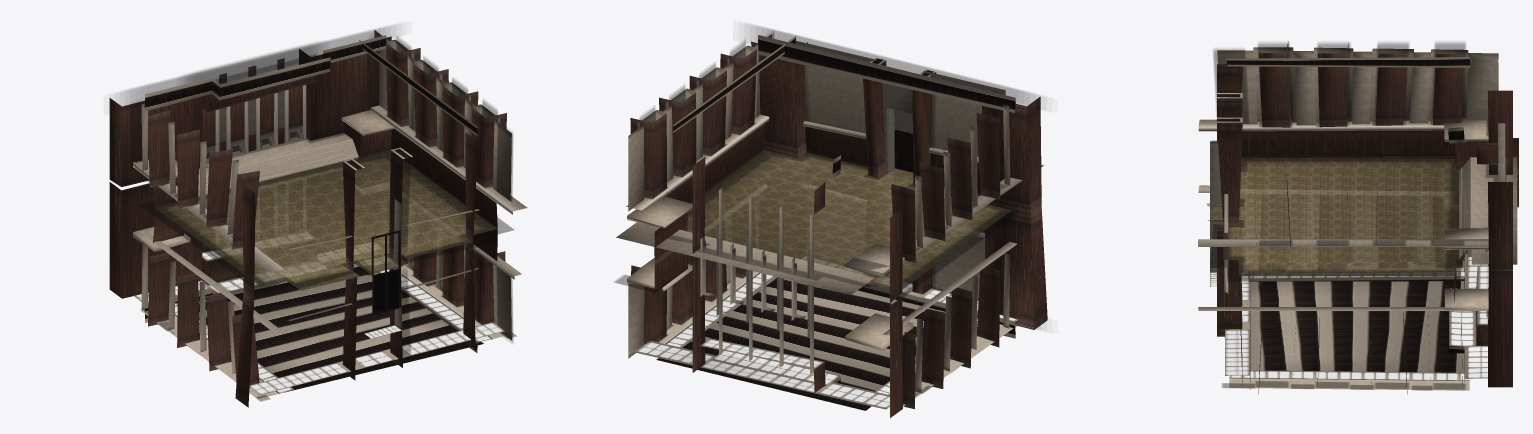
File: lawbot_da_lobby.glb
3 renders of one model, left to right at view 1: azimuth 30°, elevation 25°; view 2: azimuth 150°, elevation 25°; view 3: azimuth 270°, elevation 25°, orthographic. The views are drawn at different scales.
Visible parts, largest first — view 1: DA_LobbyFloor, DA_LobbyCeiling1, DA_Base_10 (×2), DA_Walls_21 (×4), DA_Base_18 (×2), DA_TopBorder_1 (×2), polySurface5 (×4), polySurface6 (×4), DALobbyGroundShadow, polySurface8 (×4), polySurface7 (×3), DA_TopBorder_5 (×3) (+26 smaller); view 2: DA_LobbyFloor, DA_LobbyCeiling1, DA_Walls_22 (×2), DA_Base_12 (×2), DA_Walls_21 (×4), DA_Base_11 (×2), polySurface6 (×4), polySurface8 (×4), polySurface5 (×4), polySurface7 (×4), DA_TopBorder_6 (×2), DA_Base_6 (+19 smaller); view 3: DA_LobbyFloor, DA_LobbyCeiling1, DA_Walls_21 (×2), DA_Walls_33 (×2), DA_TopBorder_5 (×3), DA_Walls_26 (×4), DALobbyGroundShadow, DA_Base_18 (×2), DA_Base_14 (×2), polySurface8 (×2), polySurface5 (×2), polySurface6 (×2) (+18 smaller).
Boxes of the visible parts, left/top/right/bottom form: DA_LobbyFloor: left=156, top=151, right=496, bottom=290; DA_LobbyCeiling1: left=199, top=262, right=483, bottom=392; DA_Base_10 (×2): left=109, top=96, right=202, bottom=298; DA_Walls_21 (×4): left=141, top=30, right=511, bottom=373; DA_Base_18 (×2): left=299, top=36, right=391, bottom=253; DA_TopBorder_1 (×2): left=134, top=35, right=386, bottom=322; polySurface5 (×4): left=206, top=86, right=478, bottom=371; polySurface6 (×4): left=177, top=63, right=448, bottom=347; DALobbyGroundShadow: left=139, top=151, right=513, bottom=290; polySurface8 (×4): left=232, top=108, right=506, bottom=384; polySurface7 (×3): left=148, top=43, right=420, bottom=326; DA_TopBorder_5 (×3): left=140, top=40, right=505, bottom=398; DA_LobbyFloor: left=687, top=150, right=1011, bottom=288; DA_LobbyCeiling1: left=656, top=278, right=945, bottom=410; DA_Walls_22 (×2): left=795, top=41, right=873, bottom=263; DA_Base_12 (×2): left=982, top=97, right=1047, bottom=329; DA_Walls_21 (×4): left=628, top=34, right=1010, bottom=392; DA_Base_11 (×2): left=751, top=41, right=807, bottom=258; polySurface6 (×4): left=659, top=92, right=945, bottom=388; polySurface8 (×4): left=720, top=49, right=1000, bottom=347; polySurface5 (×4): left=689, top=70, right=972, bottom=368; polySurface7 (×4): left=630, top=113, right=915, bottom=408; DA_TopBorder_6 (×2): left=758, top=35, right=1015, bottom=338; DA_Base_6: left=616, top=222, right=873, bottom=294; DA_LobbyFloor: left=1210, top=158, right=1460, bottom=275; DA_LobbyCeiling1: left=1250, top=281, right=1464, bottom=372; DA_Walls_21 (×2): left=1217, top=47, right=1498, bottom=267; DA_Walls_33 (×2): left=1241, top=130, right=1455, bottom=190; DA_TopBorder_5 (×3): left=1226, top=57, right=1469, bottom=390; DA_Walls_26 (×4): left=1198, top=119, right=1488, bottom=310; DALobbyGroundShadow: left=1206, top=158, right=1462, bottom=281; DA_Base_18 (×2): left=1488, top=182, right=1512, bottom=387; DA_Base_14 (×2): left=1217, top=117, right=1242, bottom=336; polySurface8 (×2): left=1258, top=41, right=1291, bottom=269; polySurface5 (×2): left=1317, top=43, right=1348, bottom=269; polySurface6 (×2): left=1375, top=47, right=1407, bottom=268.
Size of the model in its own units: 625 by 328 by 396.
Materials: 14 (13 with a texture image).
